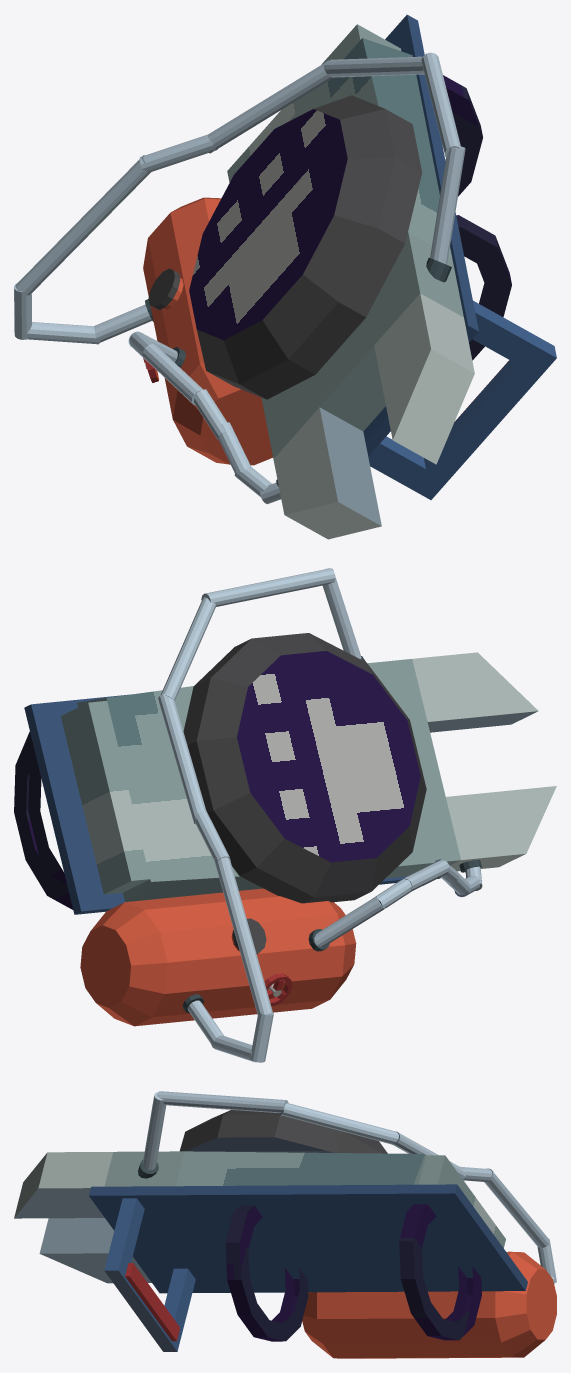
Rendered from Noise_Launcher.obj.
The picture shows the model from 3 angles, top to bottom: view 1: azimuth 30°, elevation 25°; view 2: azimuth 150°, elevation 25°; view 3: azimuth 270°, elevation 25°; orthographic projection. The views are drawn at different scales.
Parts seen in each view (by area): view 1: Indicator, Front, Tank, PincerL, PincerR, Middle, Handlebar3, Pipe, BasePlate, Pipe4, Armband2, Pipe6 (+11 smaller); view 2: Indicator, Tank, Middle, Tray, BasePlate, PincerL, PincerR, Front, Armband1, Pipe, Pipe4, Pipe8 (+6 smaller); view 3: BasePlate, Tank, Middle, Indicator, PincerL, Armband1, Armband2, PincerR, Front, Handlebar3, Pipe8, Pipe7 (+9 smaller).
Part boxes in pixels (box(x1,y1,x2,y2)): Indicator: box(189, 95, 422, 399); Front: box(261, 233, 463, 458); Tank: box(143, 197, 272, 465); PincerL: box(374, 293, 474, 464); PincerR: box(273, 407, 381, 539); Middle: box(261, 38, 451, 398); Handlebar3: box(409, 334, 556, 499); Pipe: box(94, 304, 280, 504); BasePlate: box(363, 14, 478, 456); Pipe4: box(15, 155, 150, 295); Armband2: box(456, 215, 511, 360); Pipe6: box(207, 59, 333, 153); Indicator: box(183, 633, 426, 903); Tank: box(80, 888, 356, 1026); Middle: box(77, 686, 263, 901); Tray: box(60, 701, 149, 894); BasePlate: box(24, 694, 440, 914); PincerL: box(412, 652, 538, 732); PincerR: box(446, 786, 556, 871); Front: box(367, 659, 460, 878); Armband1: box(14, 731, 72, 909); Pipe: box(187, 859, 482, 1043); Pipe4: box(214, 854, 273, 1016); Pipe8: box(201, 568, 335, 606); BasePlate: box(89, 1184, 527, 1293); Tank: box(302, 1251, 556, 1358); Middle: box(176, 1151, 425, 1186); Indicator: box(180, 1110, 387, 1153); PincerL: box(14, 1152, 112, 1218); Armband1: box(399, 1204, 481, 1340); Armband2: box(225, 1205, 308, 1341); PincerR: box(39, 1218, 151, 1283); Front: box(104, 1151, 184, 1186); Handlebar3: box(104, 1252, 181, 1351); Pipe8: box(157, 1091, 288, 1113); Pipe7: box(279, 1103, 398, 1144).
Bounding box in the file's own units: 0.8278 × 0.8093 × 1.29.
1 material, 1 textured.
